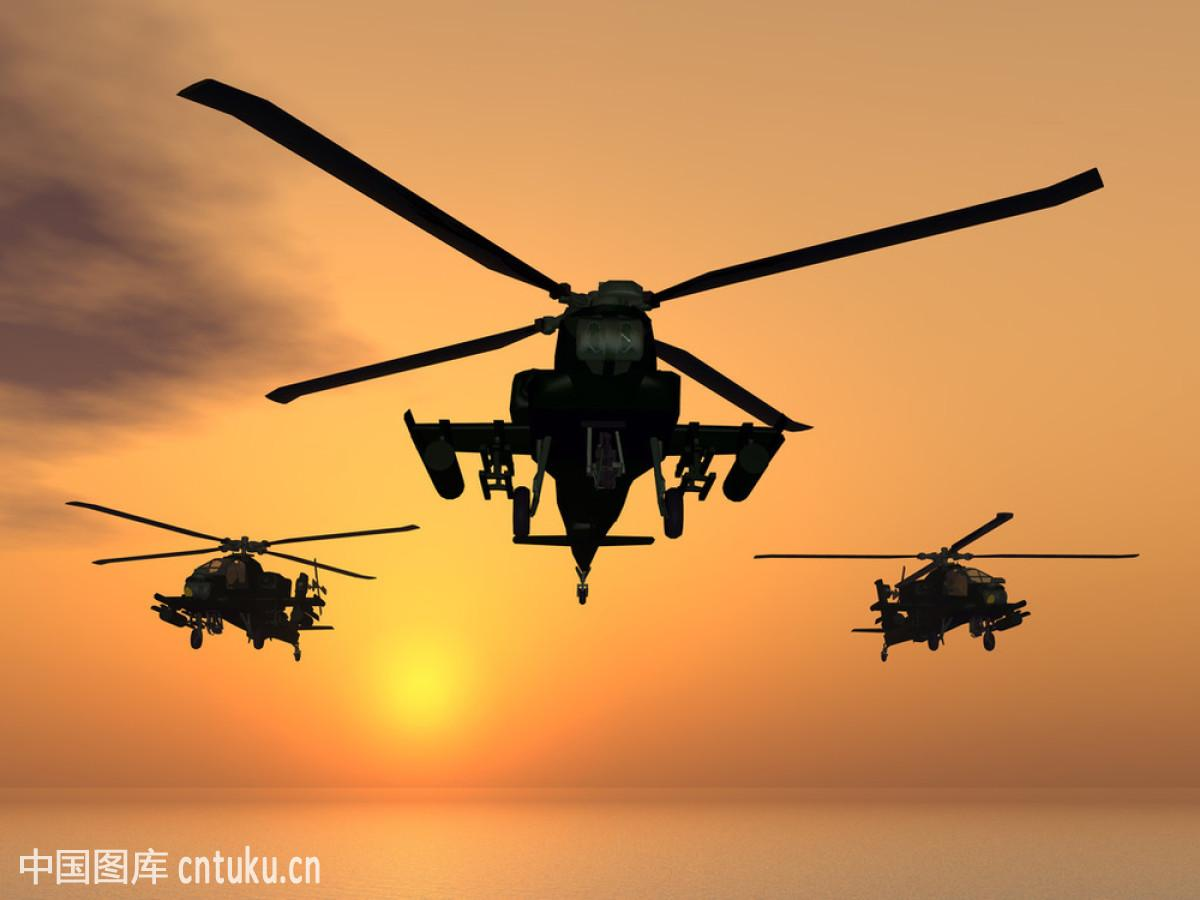airplane: (194, 68, 1107, 591), (62, 499, 418, 662), (789, 511, 1151, 666)
